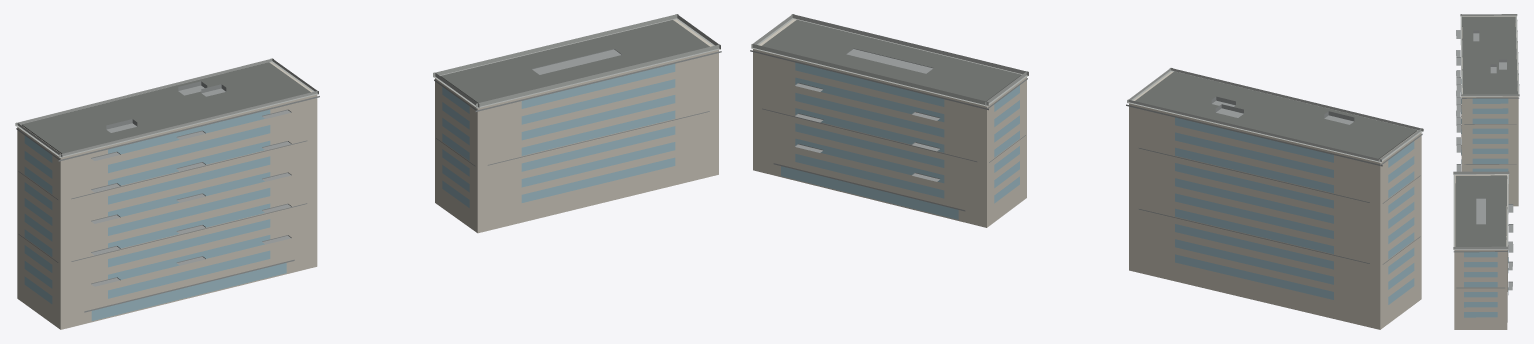
The model's file is tile-m001-m004.glb.
3 renders of one model, left to right at view 1: azimuth 30°, elevation 25°; view 2: azimuth 150°, elevation 25°; view 3: azimuth 270°, elevation 25°, orthographic. The views are drawn at different scales.
Parts seen in each view (by area): view 1: building-0497-mesh-0, building-0564-mesh-7, building-0497-mesh-1, building-0564-mesh-8, building-0497-mesh-4, building-0564-mesh-11, building-0564-mesh-12, building-0497-mesh-5, building-0497-mesh-3, building-0497-mesh-2, building-0564-mesh-9, building-0497-mesh-6 (+1 smaller); view 2: building-0497-mesh-0, building-0564-mesh-7, building-0497-mesh-1, building-0564-mesh-8, building-0497-mesh-4, building-0564-mesh-11, building-0564-mesh-12, building-0497-mesh-5, building-0497-mesh-2, building-0564-mesh-9, building-0564-mesh-10, building-0497-mesh-6 (+1 smaller); view 3: building-0497-mesh-4, building-0564-mesh-11, building-0497-mesh-0, building-0564-mesh-7, building-0497-mesh-1, building-0564-mesh-8, building-0564-mesh-12, building-0497-mesh-5, building-0497-mesh-3, building-0564-mesh-10, building-0564-mesh-13, building-0497-mesh-6 (+2 smaller).
Boxes of the visible parts, <box> form: building-0497-mesh-0: <box>17,62,317,329</box>; building-0564-mesh-7: <box>435,19,718,233</box>; building-0497-mesh-1: <box>24,109,286,320</box>; building-0564-mesh-8: <box>442,64,675,207</box>; building-0497-mesh-4: <box>21,62,310,153</box>; building-0564-mesh-11: <box>440,20,709,102</box>; building-0564-mesh-12: <box>433,14,720,108</box>; building-0497-mesh-5: <box>15,58,318,157</box>; building-0497-mesh-3: <box>91,109,291,286</box>; building-0497-mesh-2: <box>16,96,319,312</box>; building-0564-mesh-9: <box>434,51,721,166</box>; building-0497-mesh-6: <box>106,81,226,132</box>; building-0497-mesh-0: <box>1129,71,1421,329</box>; building-0564-mesh-7: <box>753,19,1026,227</box>; building-0497-mesh-1: <box>1175,117,1414,304</box>; building-0564-mesh-8: <box>781,62,1019,219</box>; building-0497-mesh-4: <box>1135,71,1417,158</box>; building-0564-mesh-11: <box>762,19,1021,101</box>; building-0564-mesh-12: <box>751,14,1028,106</box>; building-0497-mesh-5: <box>1127,68,1423,162</box>; building-0497-mesh-2: <box>1126,104,1422,264</box>; building-0564-mesh-9: <box>750,50,1027,211</box>; building-0564-mesh-10: <box>795,83,940,181</box>; building-0497-mesh-6: <box>1211,96,1354,124</box>; building-0497-mesh-4: <box>1462,16,1517,94</box>; building-0564-mesh-11: <box>1455,175,1506,246</box>; building-0497-mesh-0: <box>1461,16,1518,206</box>; building-0564-mesh-7: <box>1454,174,1508,329</box>; building-0497-mesh-1: <box>1461,79,1508,171</box>; building-0564-mesh-8: <box>1464,250,1508,317</box>; building-0564-mesh-12: <box>1453,171,1509,250</box>; building-0497-mesh-5: <box>1460,14,1519,96</box>; building-0497-mesh-3: <box>1456,30,1461,171</box>; building-0564-mesh-10: <box>1508,204,1513,290</box>; building-0564-mesh-13: <box>1476,198,1485,224</box>; building-0497-mesh-6: <box>1473,30,1506,73</box>.
Bounding box in the file's own units: 147 × 38.3 × 20.16.
